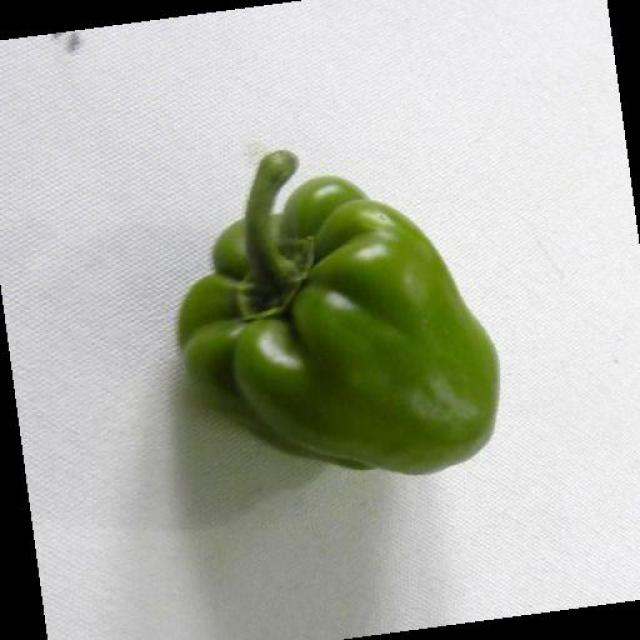Fresh_Capsicum: (185, 128, 505, 492)
